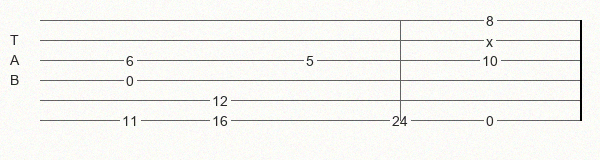0: (126, 73, 138, 87), (486, 113, 498, 127)
10: (482, 53, 502, 67)
11: (122, 113, 142, 127)
12: (212, 93, 232, 107)
16: (212, 113, 232, 127)
24: (392, 113, 412, 127)
5: (306, 53, 318, 67)
6: (126, 53, 138, 67)
8: (486, 13, 498, 27)
x: (486, 34, 497, 46)
